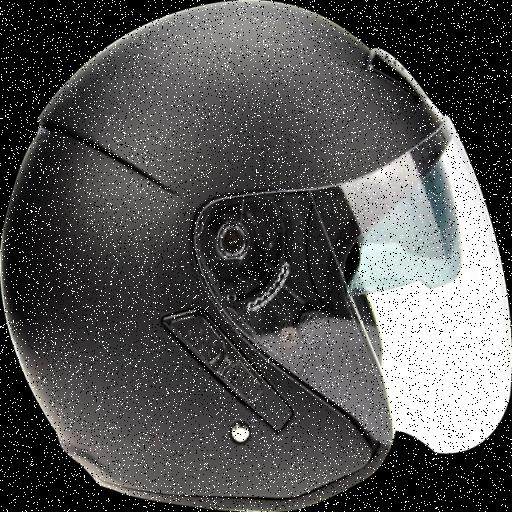Helmet: (20, 5, 501, 507)
